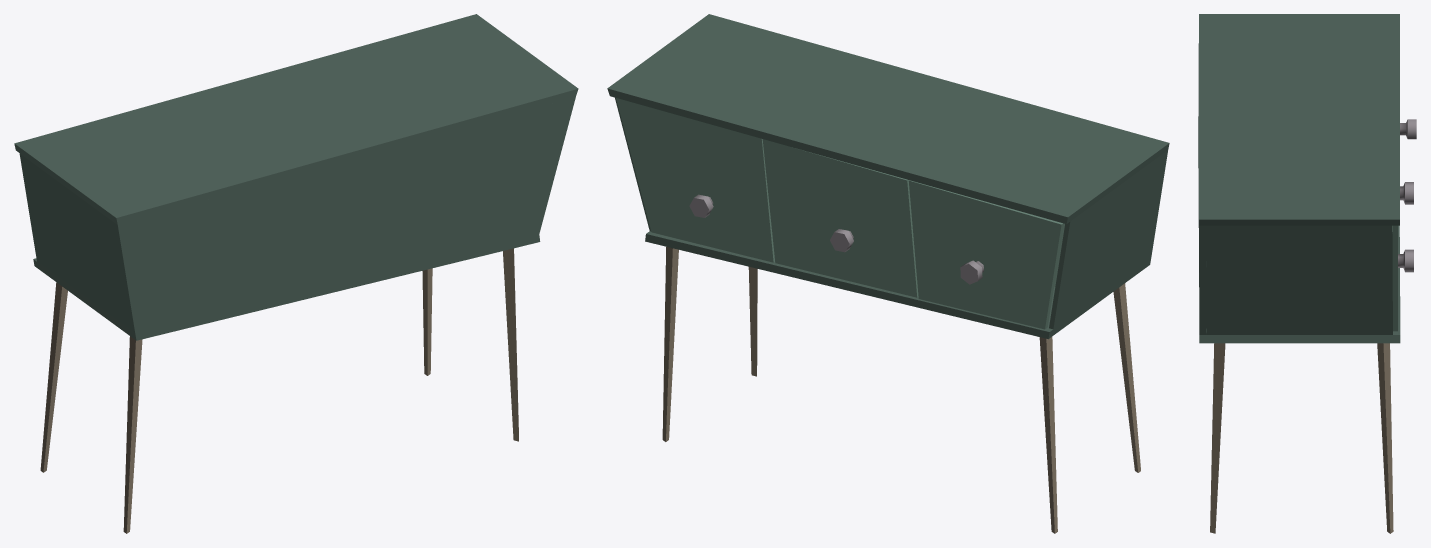
Rendered from fork pedestal static.fbx.
3 renders of one model, left to right at view 1: azimuth 30°, elevation 25°; view 2: azimuth 150°, elevation 25°; view 3: azimuth 270°, elevation 25°, orthographic.
Parts seen in each view (by area): view 1: pedestal fork room; view 2: pedestal fork room, pedestal fork room door 2, pedestal fork room door 1, pedestal fork room door 3; view 3: pedestal fork room, pedestal fork room door 1, pedestal fork room door 3, pedestal fork room door 2.
Boxes of the visible parts, x1,y1,x2,y2 form: pedestal fork room: [14, 14, 578, 533]; pedestal fork room: [607, 14, 1169, 533]; pedestal fork room door 2: [762, 139, 918, 297]; pedestal fork room door 1: [616, 98, 774, 262]; pedestal fork room door 3: [908, 180, 1064, 329]; pedestal fork room: [1198, 14, 1400, 533]; pedestal fork room door 1: [1392, 225, 1413, 331]; pedestal fork room door 3: [1400, 119, 1416, 139]; pedestal fork room door 2: [1400, 182, 1413, 204].
Bounding box in the file's own units: 1.71 × 1.21 × 0.7081.
